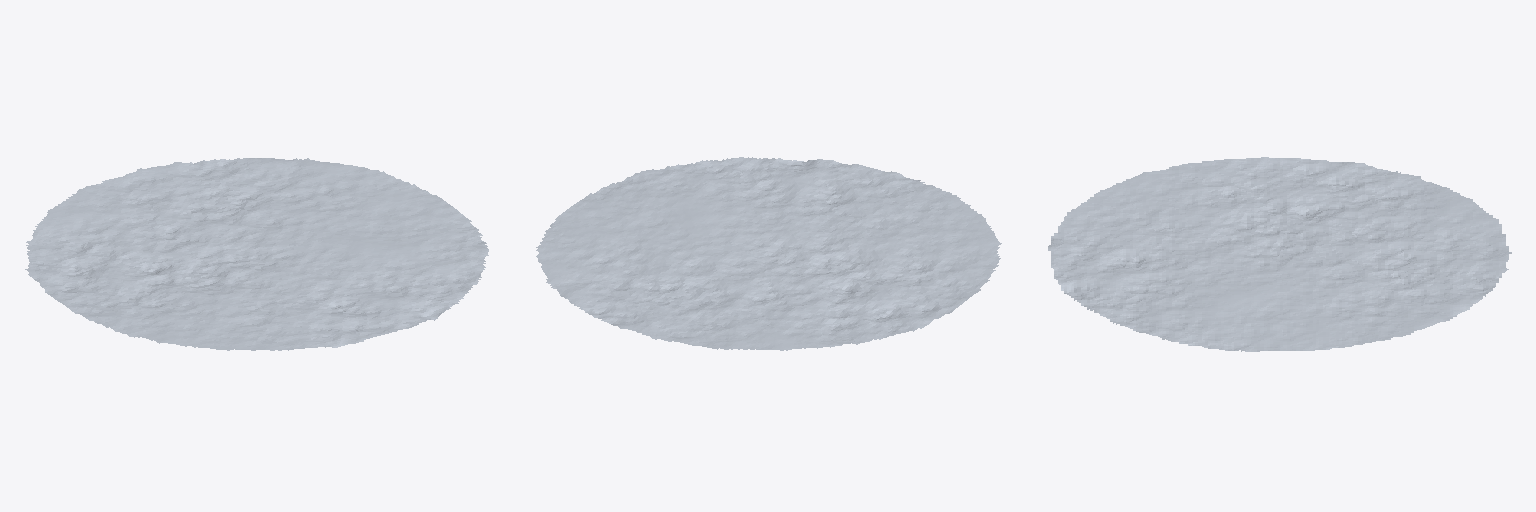
The model's file is water2.obj.
3 views of the same model, side by side, from view 1: azimuth 30°, elevation 25°; view 2: azimuth 150°, elevation 25°; view 3: azimuth 270°, elevation 25° (orthographic).
Parts seen in each view (by area): view 1: groundplanedisk2; view 2: groundplanedisk2; view 3: groundplanedisk2.
Boxes of the visible parts, box(x1,y1,x2,y2) form: groundplanedisk2: box(25, 158, 488, 350); groundplanedisk2: box(536, 157, 1001, 350); groundplanedisk2: box(1048, 157, 1511, 351).
Bounding box in the file's own units: 5683 × 89.44 × 5805.